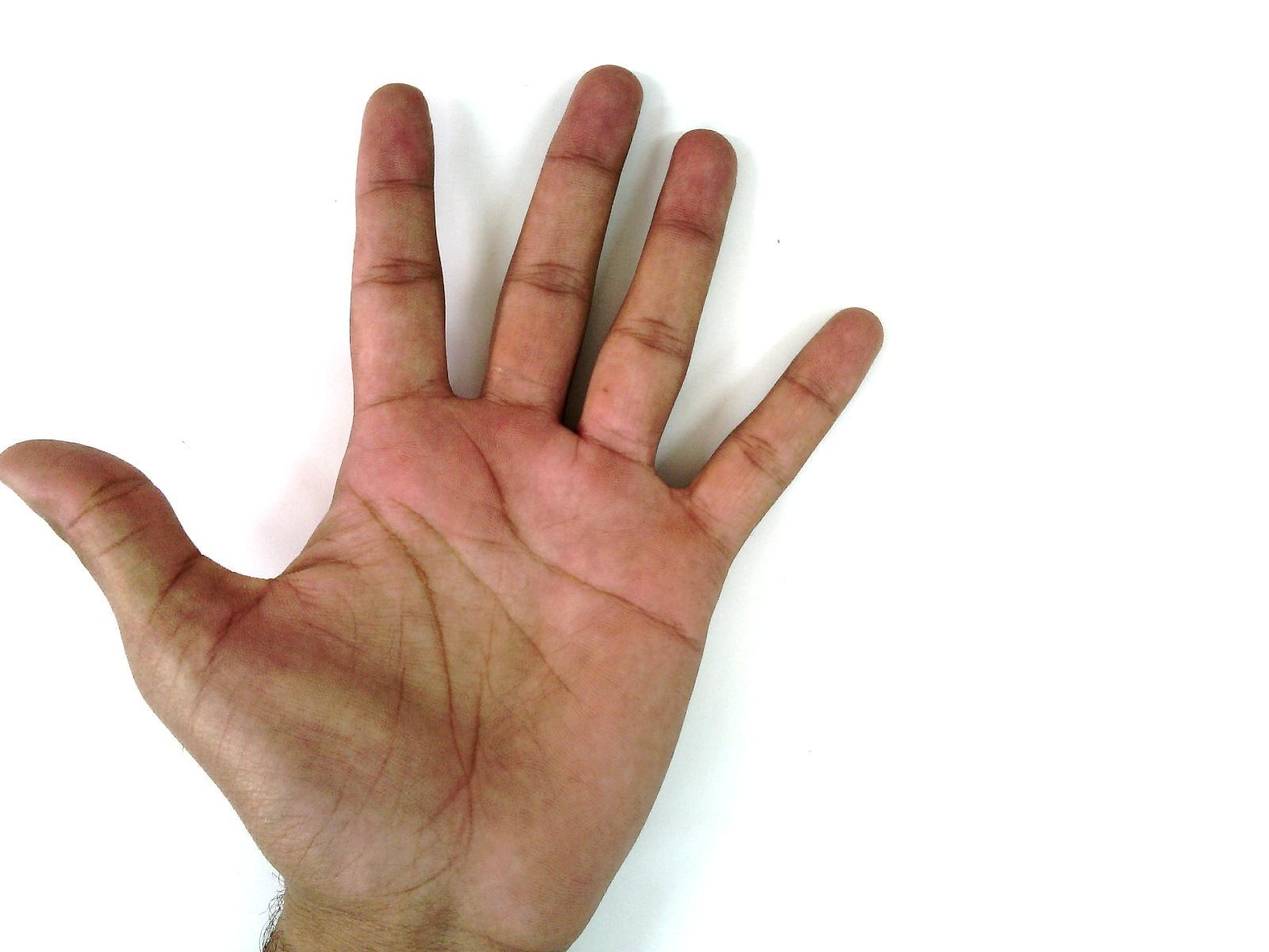open_palm: (4, 63, 888, 950)
